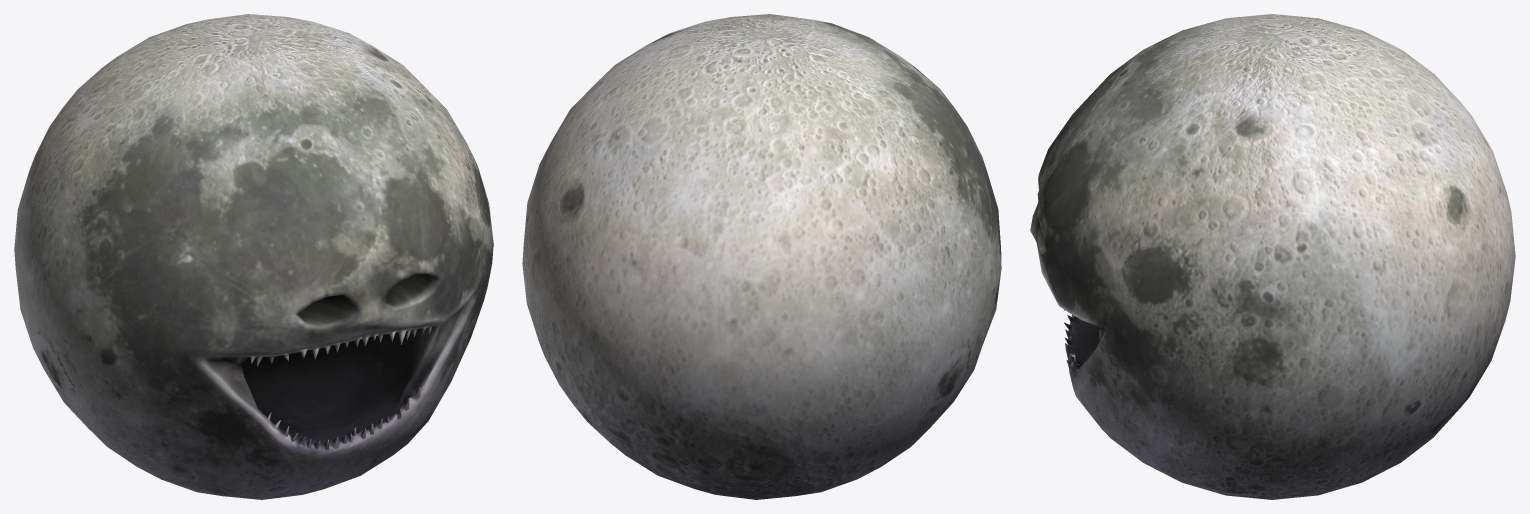
Rendered from the_moon_woke_up.glb.
3 renders of one model, left to right at view 1: azimuth 30°, elevation 25°; view 2: azimuth 150°, elevation 25°; view 3: azimuth 270°, elevation 25°, orthographic.
Visible parts, largest first — view 1: Moon WokeUp; view 2: Moon WokeUp; view 3: Moon WokeUp.
Boxes of the visible parts, x1,y1,x2,y2 form: Moon WokeUp: (14, 14, 493, 499); Moon WokeUp: (522, 14, 1001, 499); Moon WokeUp: (1030, 14, 1515, 499).
Bounding box in the file's own units: 0.0198 × 0.02 × 0.0199.
1 material, 1 textured.
